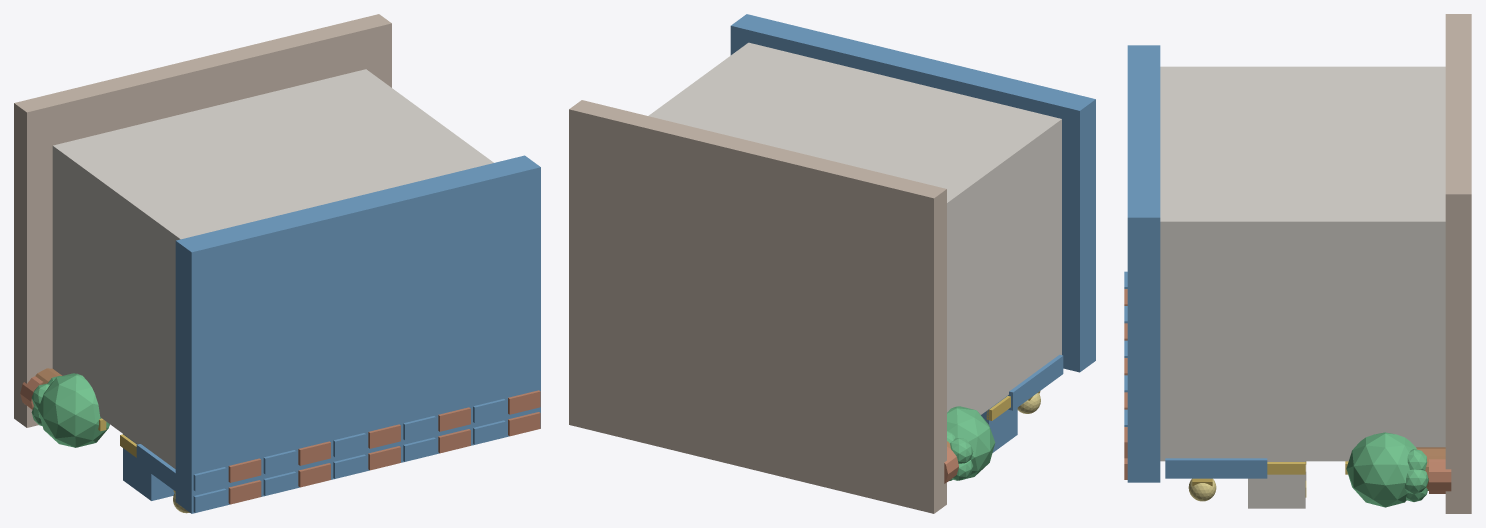
The model's file is sale.glb.
3 views of the same model, side by side, from view 1: azimuth 30°, elevation 25°; view 2: azimuth 150°, elevation 25°; view 3: azimuth 270°, elevation 25° (orthographic).
Visible parts, largest first — view 1: roof_2, walls_1, plinth_0, plant_20, awning_5, signboard_3, detail_roof_tile_34, detail_roof_tile_46, detail_roof_tile_35, detail_roof_tile_44, detail_roof_tile_45, detail_roof_tile_36 (+14 smaller); view 2: plinth_0, walls_1, roof_2, plant_20, signboard_3, awning_5; view 3: walls_1, roof_2, plinth_0, plant_22, signboard_3, awning_12, detail_flower_pot_27, detail_window_trim_5, detail_foliage_28, detail_sconce_glow_9.
Part boxes in pixels (<box>): roof_2: <box>175,155,540,513</box>; walls_1: <box>52,69,493,468</box>; plinth_0: <box>14,14,391,427</box>; plant_20: <box>38,373,109,447</box>; awning_5: <box>123,434,174,500</box>; signboard_3: <box>136,444,175,491</box>; detail_roof_tile_34: <box>193,488,226,512</box>; detail_roof_tile_46: <box>263,450,296,474</box>; detail_roof_tile_35: <box>228,480,261,504</box>; detail_roof_tile_44: <box>193,467,226,491</box>; detail_roof_tile_45: <box>228,458,261,482</box>; detail_roof_tile_36: <box>263,471,296,495</box>; plinth_0: <box>569,100,946,513</box>; walls_1: <box>648,42,1061,414</box>; roof_2: <box>730,14,1095,372</box>; plant_20: <box>947,406,995,480</box>; signboard_3: <box>1008,354,1063,410</box>; awning_5: <box>981,395,1017,452</box>; walls_1: <box>1160,66,1445,461</box>; roof_2: <box>1127,45,1160,482</box>; plinth_0: <box>1445,14,1471,513</box>; plant_22: <box>1346,432,1416,507</box>; signboard_3: <box>1165,458,1267,478</box>; awning_12: <box>1248,461,1305,508</box>; detail_flower_pot_27: <box>1429,459,1451,493</box>; detail_window_trim_5: <box>1267,462,1305,474</box>; detail_foliage_28: <box>1405,469,1428,494</box>; detail_sconce_glow_9: <box>1188,479,1216,501</box>.
Bounding box in the file's own units: 4.94 × 3.9 × 3.74.
